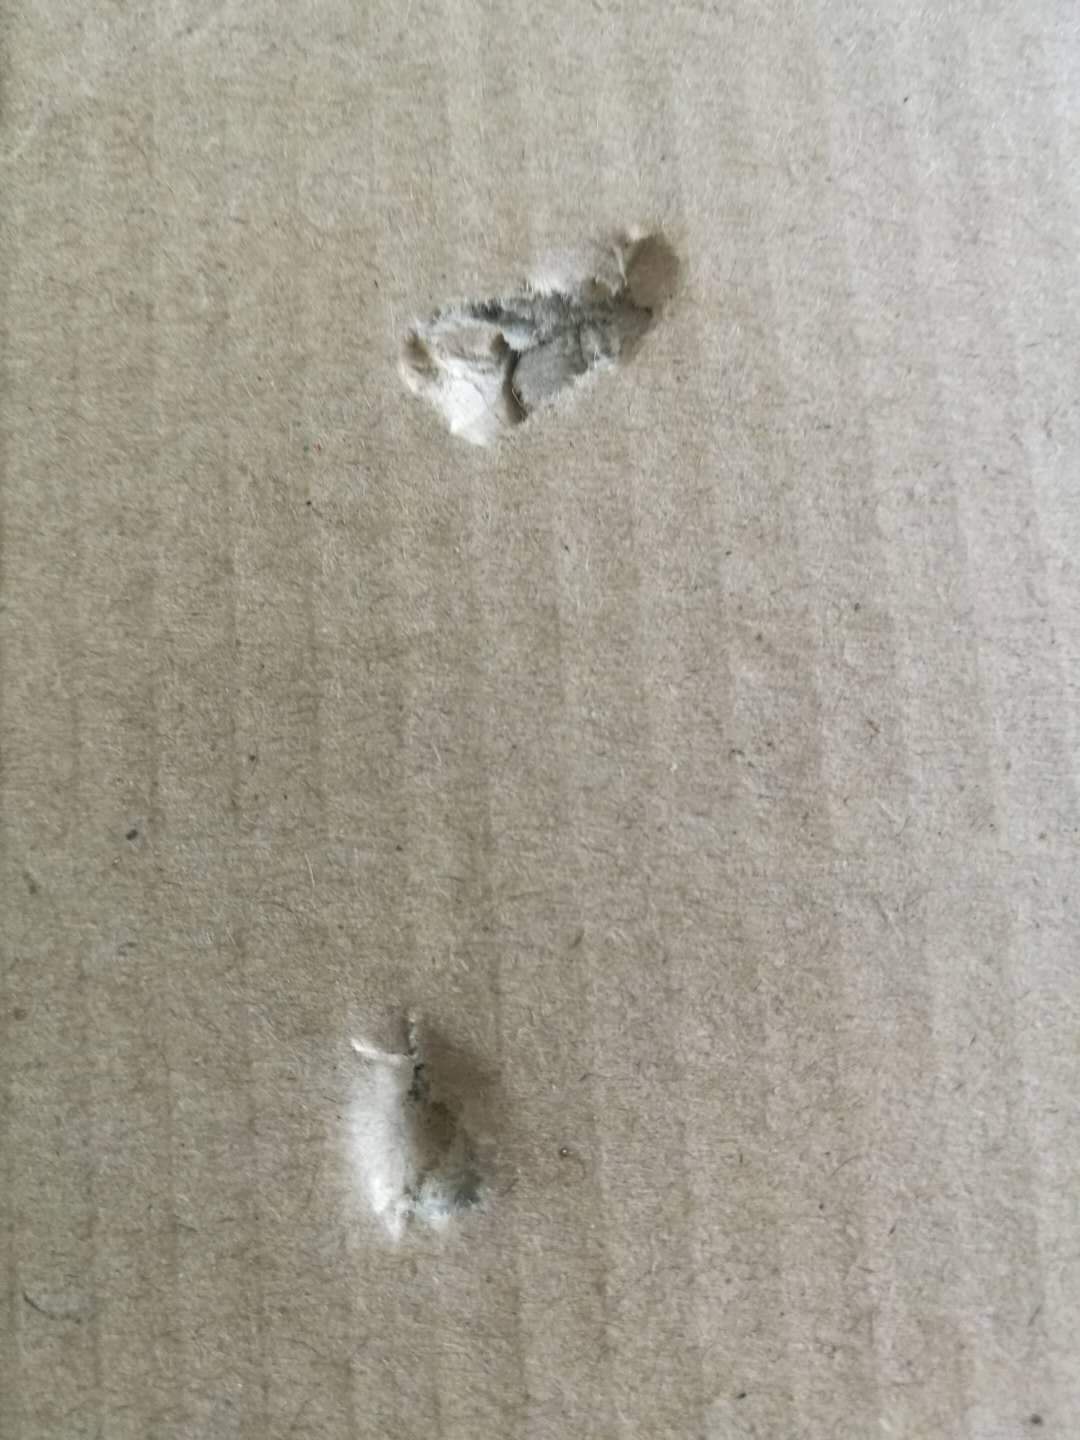defect: (354, 179, 732, 471), (292, 982, 568, 1284)
